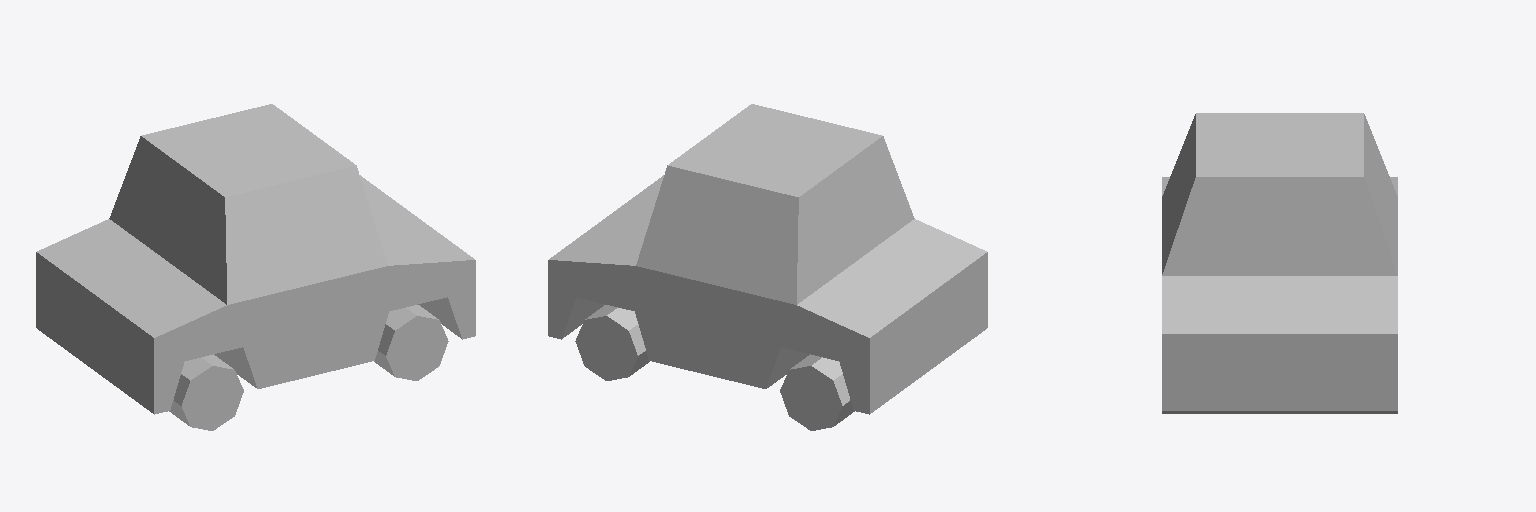
File: car4.obj
3 views of the same model, side by side, from view 1: azimuth 30°, elevation 25°; view 2: azimuth 150°, elevation 25°; view 3: azimuth 270°, elevation 25° (orthographic).
Parts seen in each view (by area): view 1: Plane_Plane.004; view 2: Plane_Plane.004; view 3: Plane_Plane.004.
Boxes of the visible parts, x1,y1,x2,y2 form: Plane_Plane.004: [36, 104, 475, 430]; Plane_Plane.004: [548, 104, 987, 430]; Plane_Plane.004: [1162, 113, 1397, 413].
Bounding box in the file's own units: 2.75 × 1.75 × 1.75.